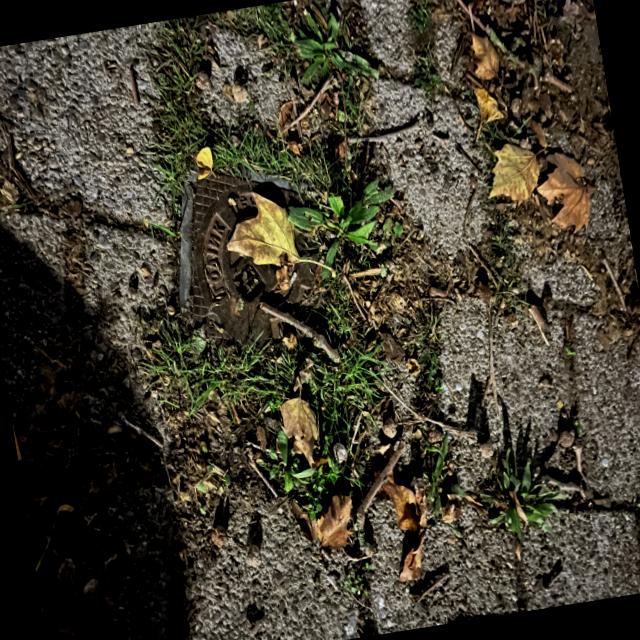leaves: (466, 35, 592, 234), (305, 457, 438, 583)
pavement: (0, 236, 639, 639), (441, 135, 639, 520)
weedling: (150, 166, 400, 520)
